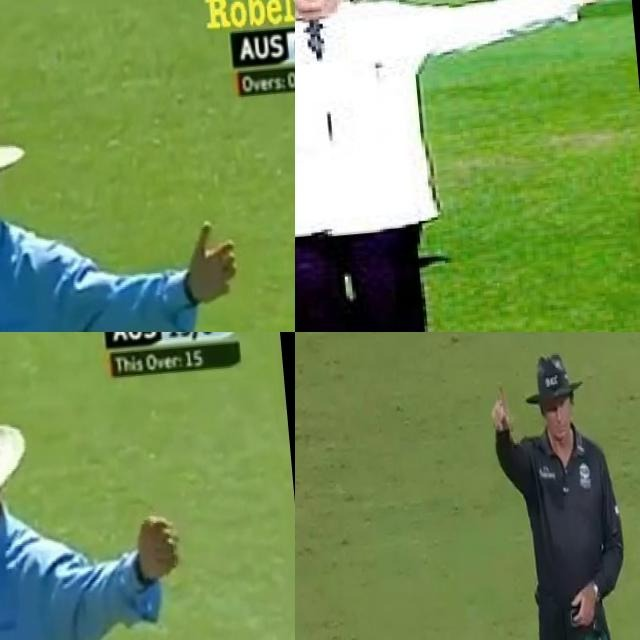No_Ball: (0, 70, 268, 332)
Out: (482, 339, 640, 640)
Wide: (295, 0, 640, 332), (0, 379, 212, 640)
